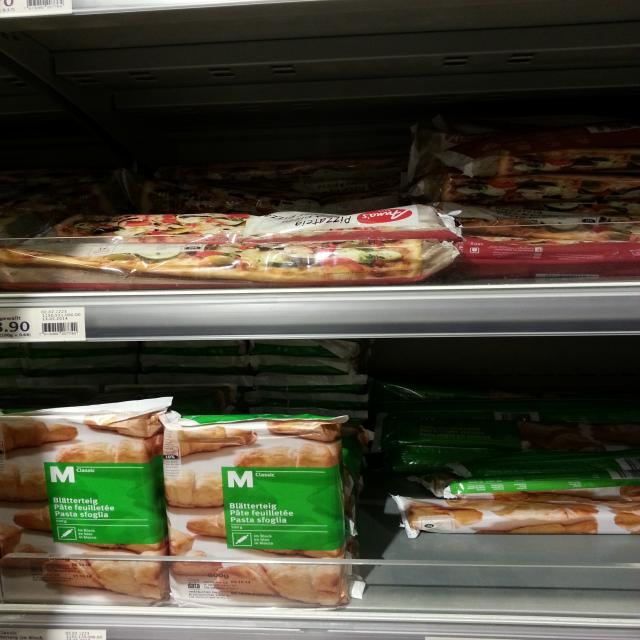Bakery: (158, 412, 352, 610), (0, 394, 165, 605), (0, 238, 456, 286), (0, 202, 460, 241), (388, 494, 640, 534), (448, 230, 640, 272)
